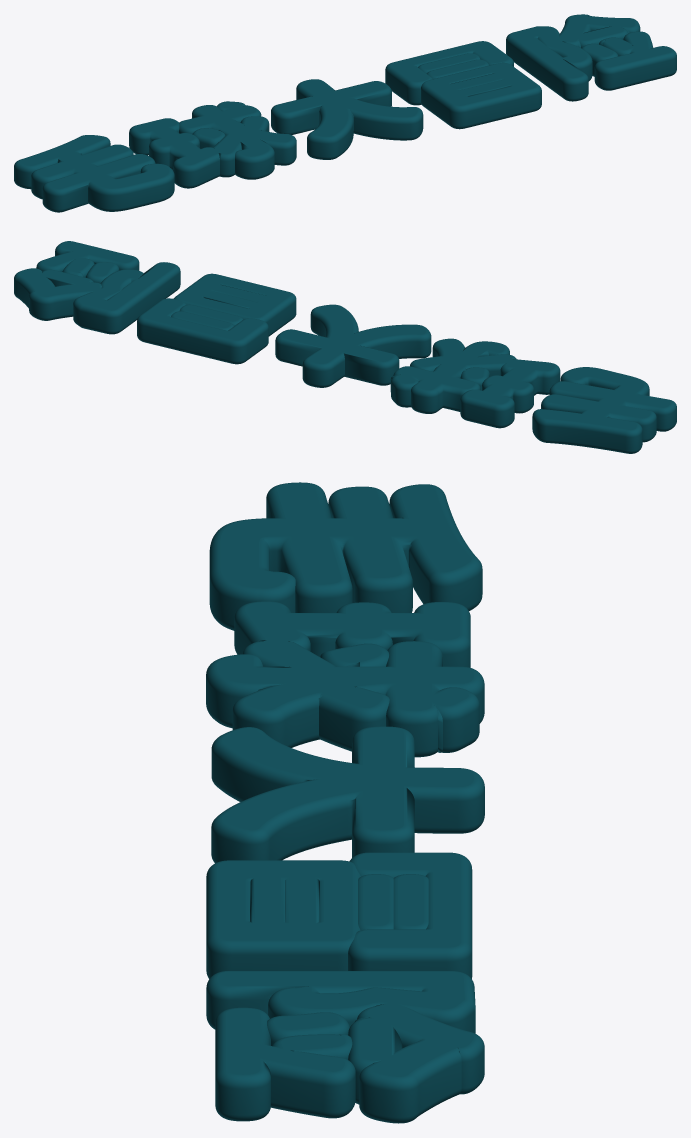
Rendered from adventure_title.glb.
3 views of the same model, one above another, from view 1: azimuth 30°, elevation 25°; view 2: azimuth 150°, elevation 25°; view 3: azimuth 270°, elevation 25° (orthographic). The views are drawn at different scales.
Visible parts, largest first — view 1: adventure_title__Enamel_SoftSculptTitle; view 2: adventure_title__Enamel_SoftSculptTitle; view 3: adventure_title__Enamel_SoftSculptTitle.
Part boxes in pixels (box(x1,y1,x2,y2)): adventure_title__Enamel_SoftSculptTitle: box(14, 14, 676, 212); adventure_title__Enamel_SoftSculptTitle: box(14, 241, 676, 453); adventure_title__Enamel_SoftSculptTitle: box(206, 482, 484, 1123).
Bounding box in the file's own units: 4.95 × 0.1746 × 0.9682.
